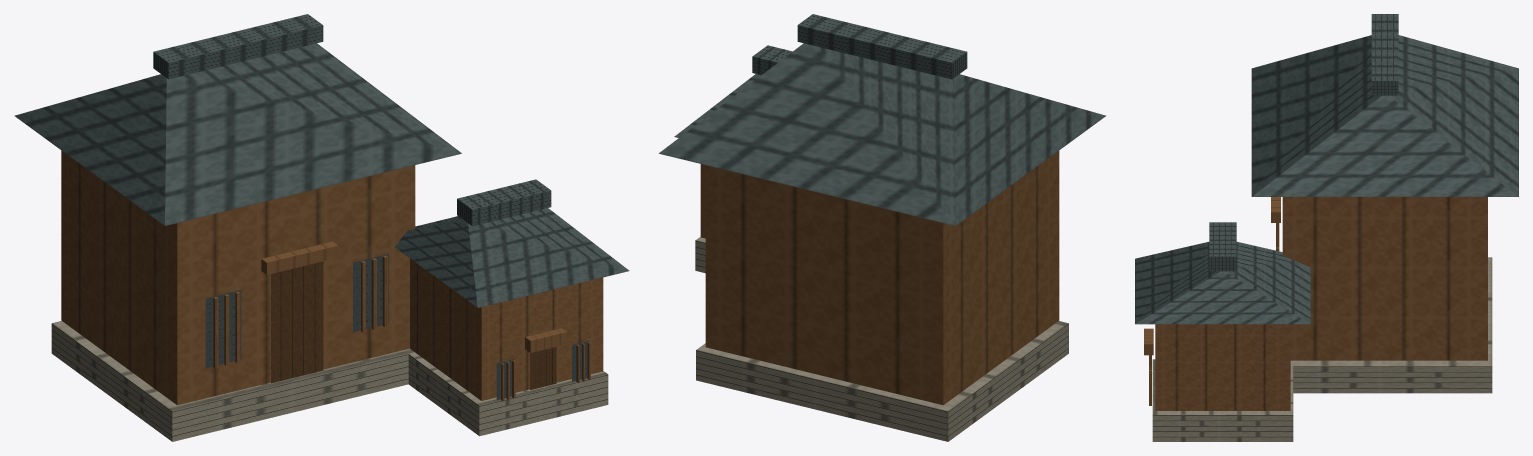
File: domestic-STABLE-2-lod1.glb
3 renders of one model, left to right at view 1: azimuth 30°, elevation 25°; view 2: azimuth 150°, elevation 25°; view 3: azimuth 270°, elevation 25°, orthographic. The views are drawn at different scales.
Size of the model in its own units: 0.755 by 0.594 by 0.7095.
Materials: 1 (1 with a texture image).
